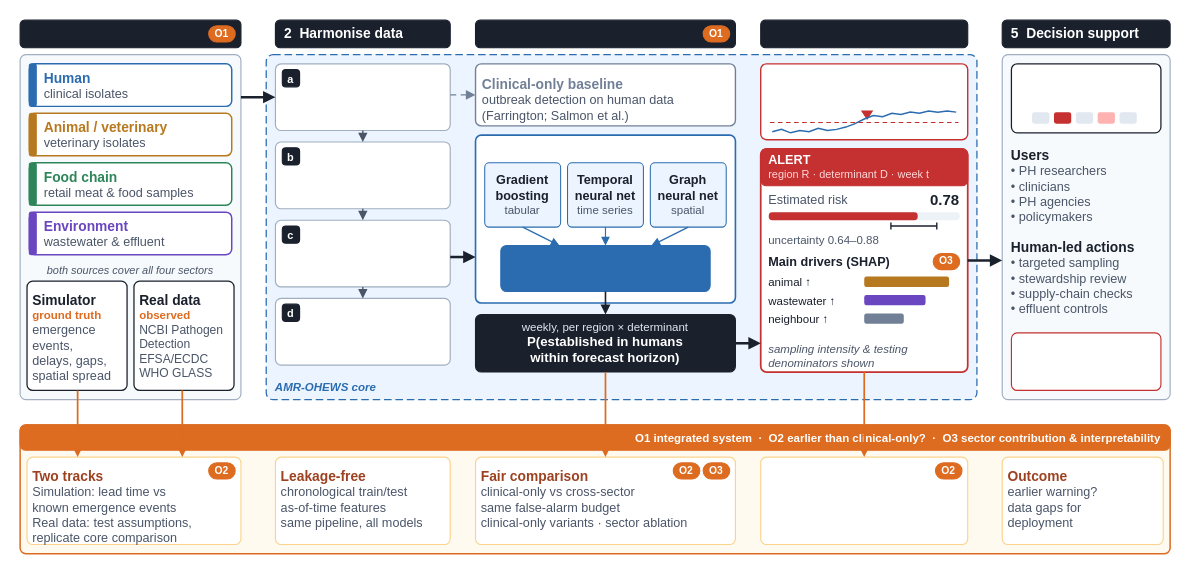
Image size: 1191x575. Some labels were removed from this diagram. Each missing label, with the box of its shape:
1 One Health data: (19, 19, 241, 48)
3 Weekly risk models: (474, 19, 735, 48)
4 Interpretable alerts: (760, 19, 968, 48)
6 Evaluation framework: (19, 424, 1170, 450)
Alert threshold fixed false-alarm budget: (759, 63, 968, 140)
Align region × week × resistance determinant: (274, 63, 450, 131)
Cross-sector AI models: (474, 134, 736, 303)
Dashboard Streamlit · Plotly: (1010, 63, 1161, 133)
Ensemble + calibration weighted combination: (500, 244, 710, 292)
Features sector trends, antibiotic use, sampling intensity: (274, 219, 450, 287)
Metrics sensitivity realised false-alarm rate lead time (weeks): (760, 456, 968, 545)
Region graph inter-region links for spatial spread: (274, 297, 450, 365)
Reporting delays only data available at prediction time: (274, 141, 450, 209)
screening & prioritisation tool, not automatic action: (1010, 332, 1161, 390)
